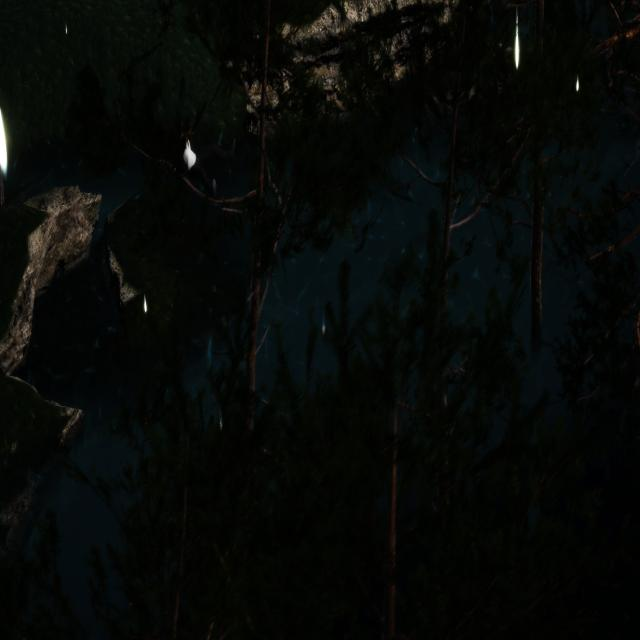Human: (174, 114, 235, 207)
